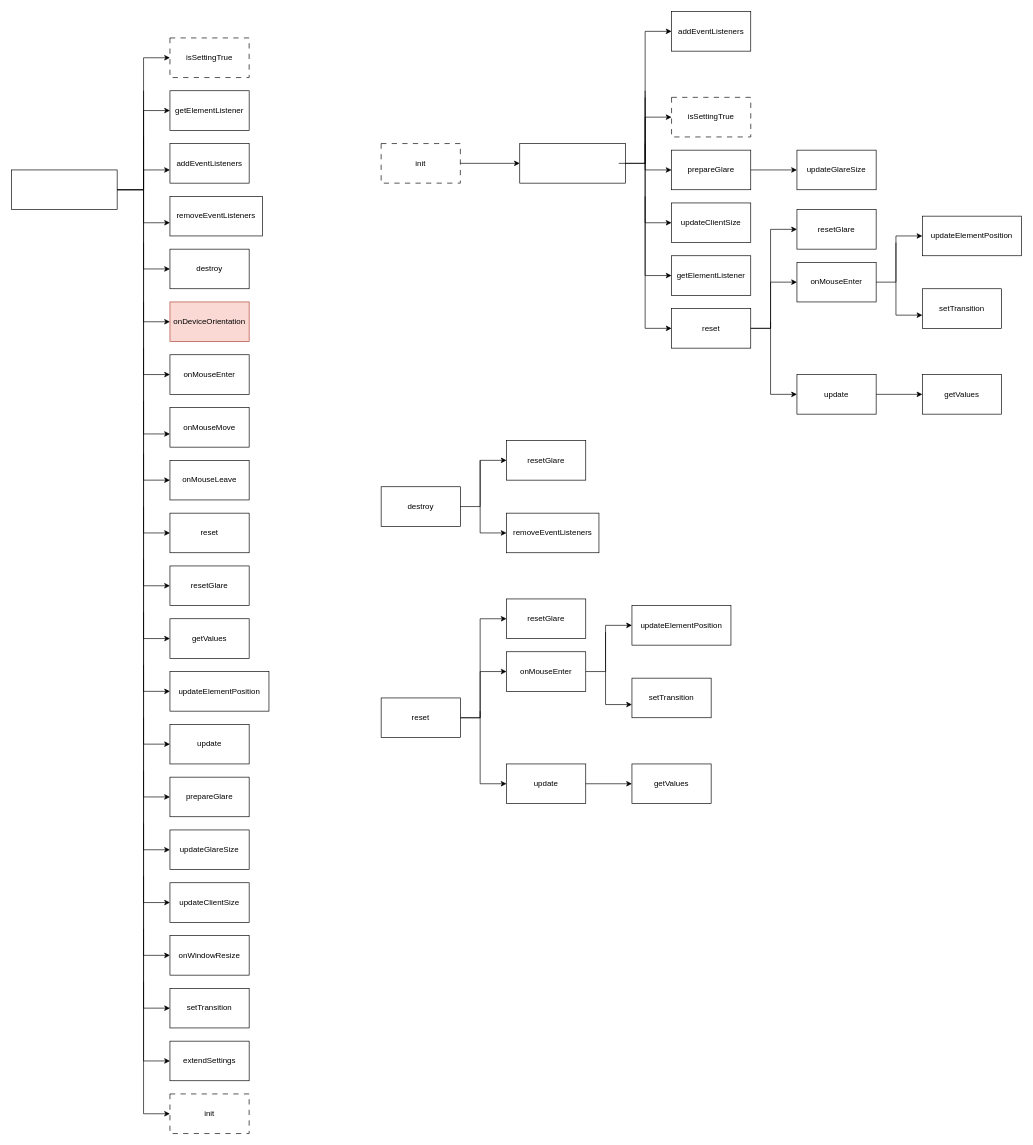
Some shapes in this 1033 by 1145 pixel diagram are drawn without their labels. Each missing label, with the box of its shape:
VanillaTilt: (11, 169, 117, 210)
VanillaTilt.constructor(): (519, 143, 625, 183)
